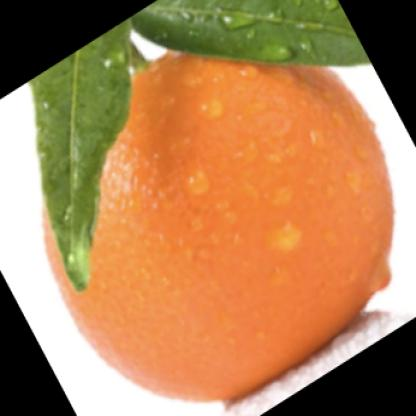fresh: (44, 28, 393, 400)
